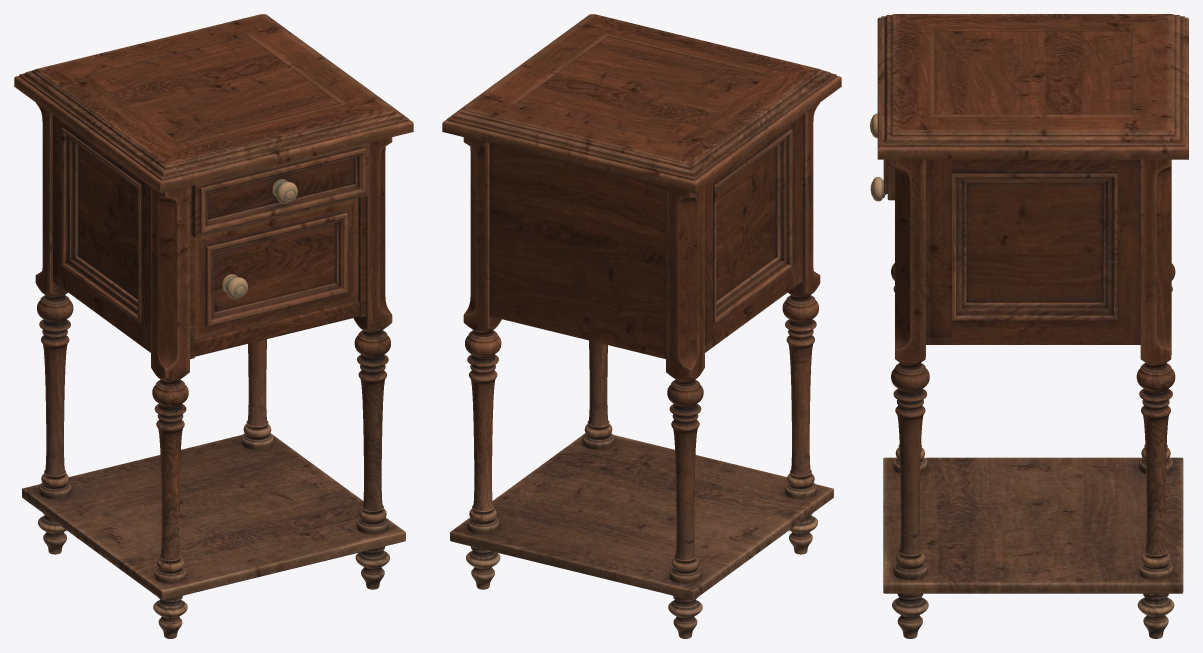
3 views of the same model, side by side, from view 1: azimuth 30°, elevation 25°; view 2: azimuth 150°, elevation 25°; view 3: azimuth 270°, elevation 25° (orthographic). The views are drawn at different scales.
Visible parts, largest first — view 1: Cube_2_2, Cube_6, Null; view 2: Cube_2_2; view 3: Cube_2_2, Null.
Part boxes in pixels (x1=…): Cube_2_2: x1=14, y1=14, x2=413, y2=638; Cube_6: x1=194, y1=198, x2=358, y2=340; Null: x1=191, y1=143, x2=368, y2=237; Cube_2_2: x1=442, y1=14, x2=841, y2=638; Cube_2_2: x1=877, y1=14, x2=1188, y2=638; Null: x1=870, y1=113, x2=894, y2=200.
Size of the model in its own units: 6.13 by 11.11 by 6.28.
Materials: 1 (1 with a texture image).
